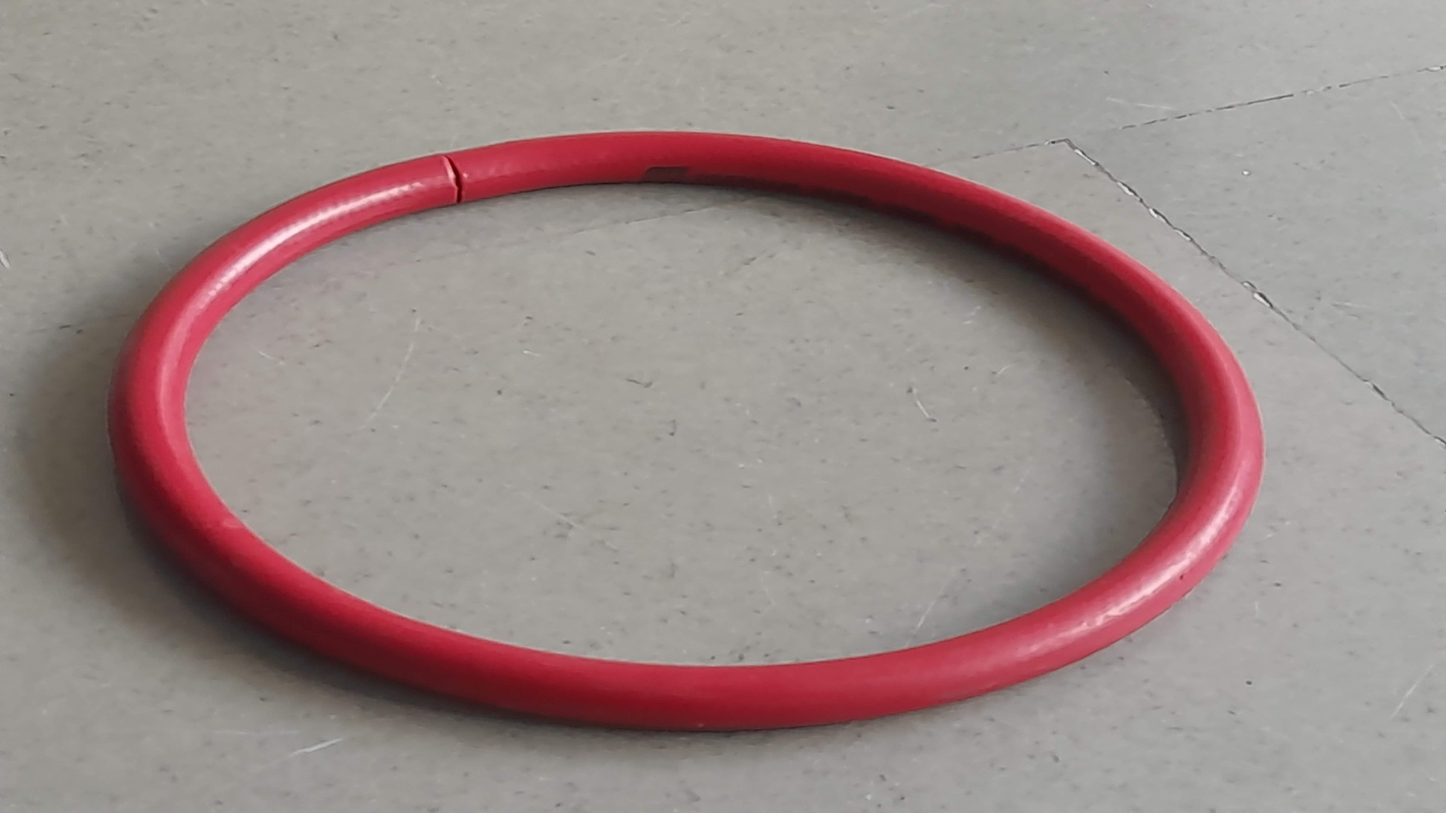Red ring: (114, 132, 1266, 735)
